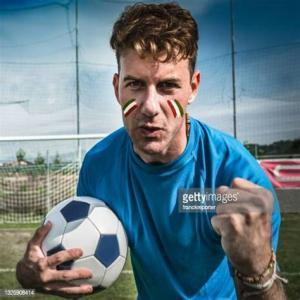Football: (40, 195, 129, 293)
